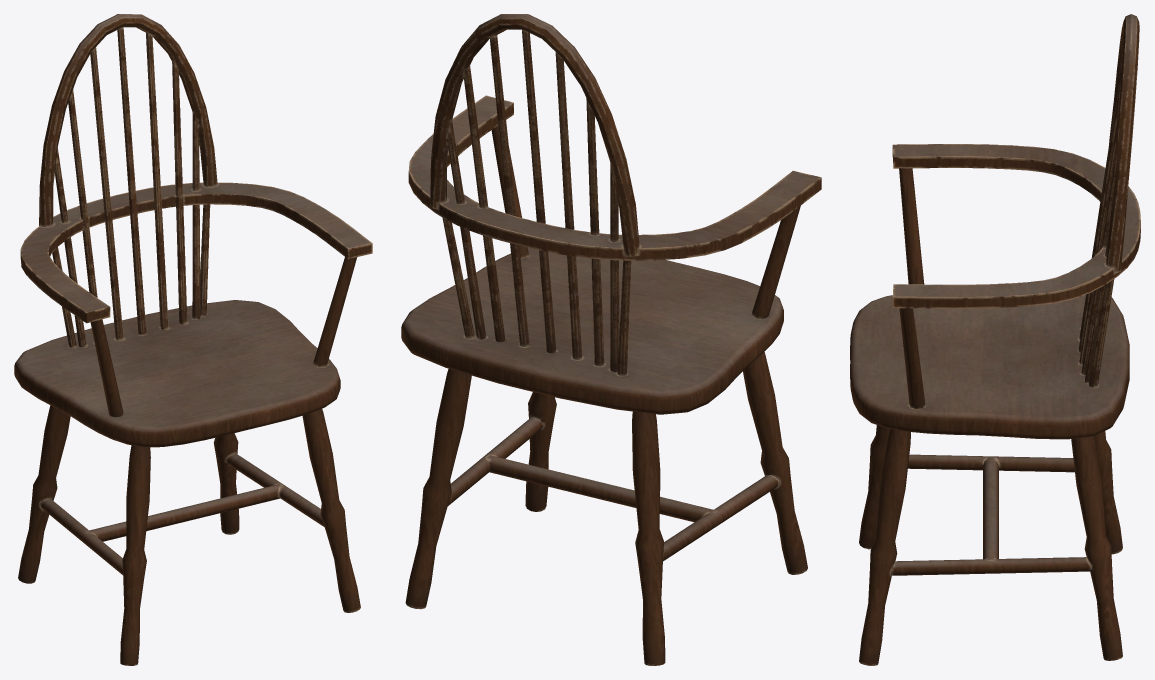
Rendered from windsor_chair.glb.
3 renders of one model, left to right at view 1: azimuth 30°, elevation 25°; view 2: azimuth 150°, elevation 25°; view 3: azimuth 270°, elevation 25°, orthographic. The views are drawn at different scales.
Parts seen in each view (by area): view 1: windsor_chair; view 2: windsor_chair; view 3: windsor_chair.
Boxes of the visible parts, x1,y1,x2,y2 form: windsor_chair: [14, 14, 372, 665]; windsor_chair: [401, 14, 821, 665]; windsor_chair: [850, 14, 1140, 665].
Bounding box in the file's own units: 0.5942 × 1.06 × 0.4753.
Materials: 1 (1 with a texture image).
